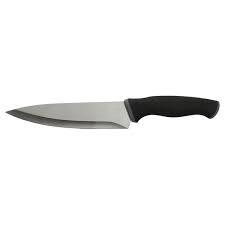Knife: (4, 94, 220, 129)
